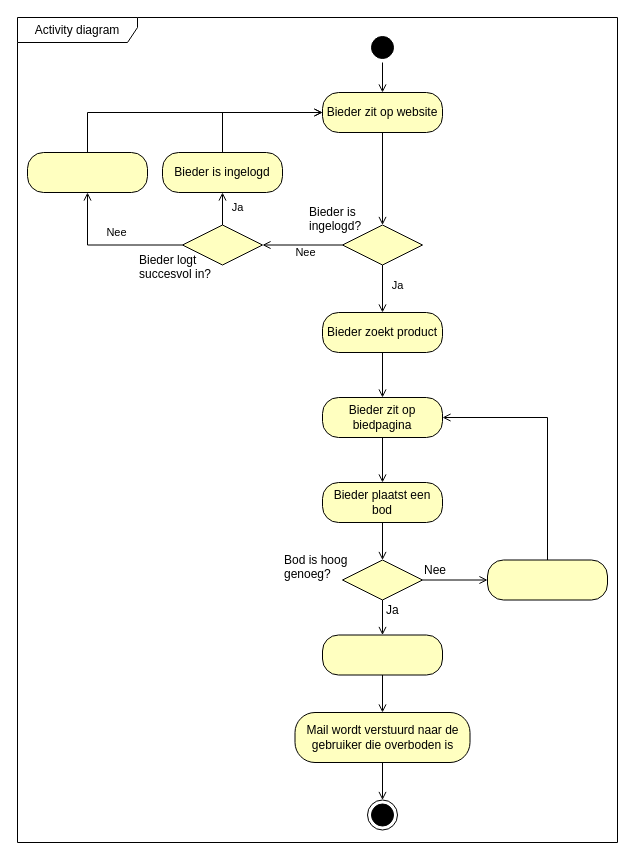
This 635x860 diagram has some shape labels left out. Here are the shapes that lost their labels. From the top down, the box of each, then its label:
(26, 152, 148, 192): Bieder is niet ingelogd
(486, 559, 608, 600): Bod is niet geplaatst
(322, 634, 442, 675): Bod is geplaatst
